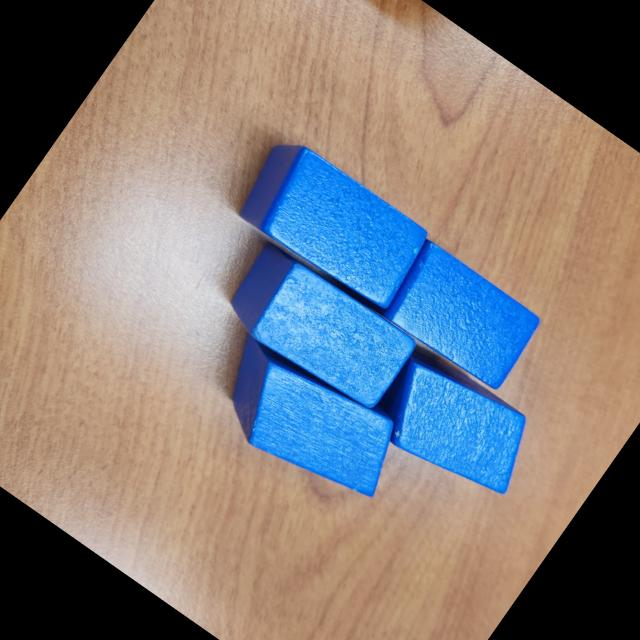blue: (194, 322, 420, 524), (224, 128, 440, 320), (214, 235, 423, 420), (362, 342, 550, 516), (375, 238, 547, 398)
